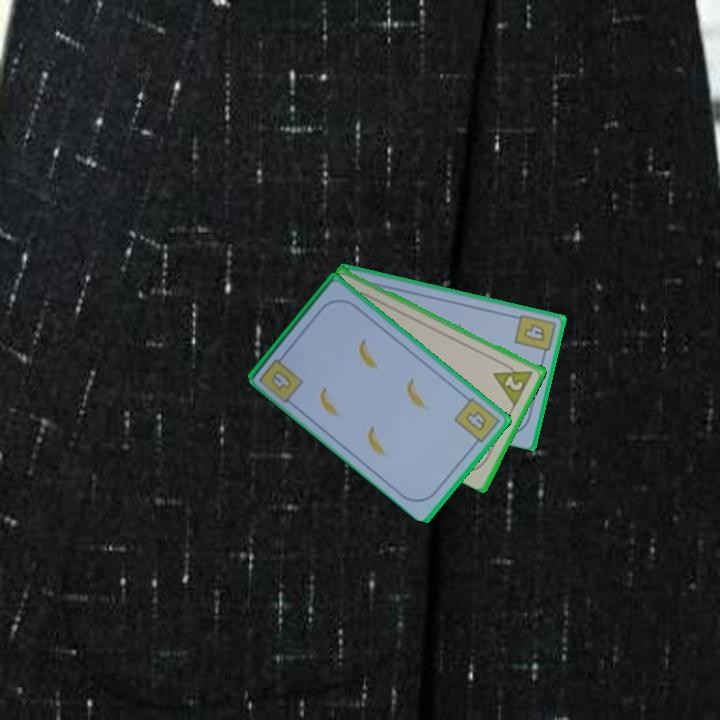2p: (490, 357, 536, 408)
4b: (451, 393, 503, 450), (511, 310, 558, 360), (268, 366, 295, 393)
